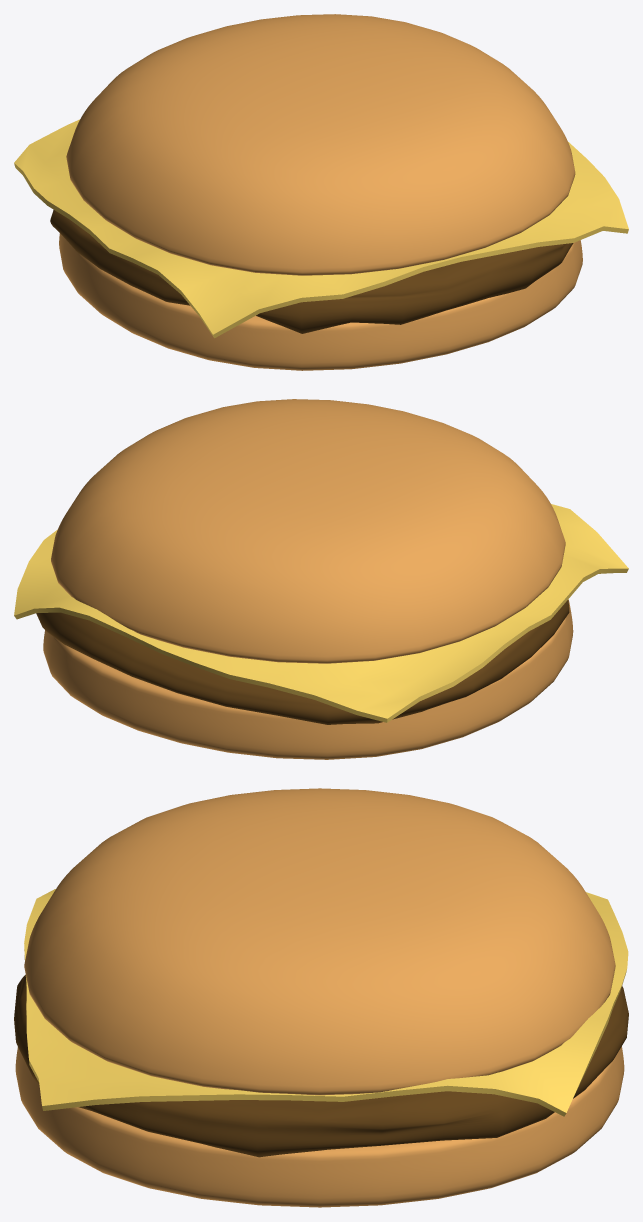
The model's file is burger-draco.glb.
3 renders of one model, top to bottom at view 1: azimuth 30°, elevation 25°; view 2: azimuth 150°, elevation 25°; view 3: azimuth 270°, elevation 25°, orthographic. The views are drawn at different scales.
Parts seen in each view (by area): view 1: topbun, bottombun, cheese, meat; view 2: topbun, bottombun, cheese, meat; view 3: topbun, bottombun, meat, cheese.
Boxes of the visible parts, x1,y1,x2,y2 form: topbun: (66, 14, 575, 275); bottombun: (59, 233, 582, 370); cheese: (14, 119, 628, 338); meat: (50, 210, 573, 333); topbun: (51, 399, 565, 663); bottombun: (43, 599, 573, 759); cheese: (14, 504, 628, 722); meat: (36, 600, 569, 724); topbun: (24, 788, 615, 1095); bottombun: (15, 1046, 624, 1207); meat: (14, 975, 628, 1157); cheese: (24, 889, 628, 1116).
Bounding box in the file's own units: 9.94 × 4.31 × 9.91.
